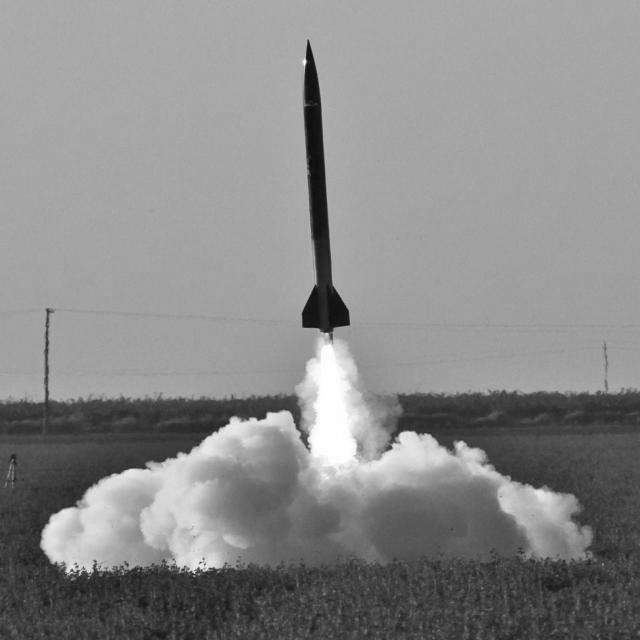missile: (299, 35, 352, 336)
